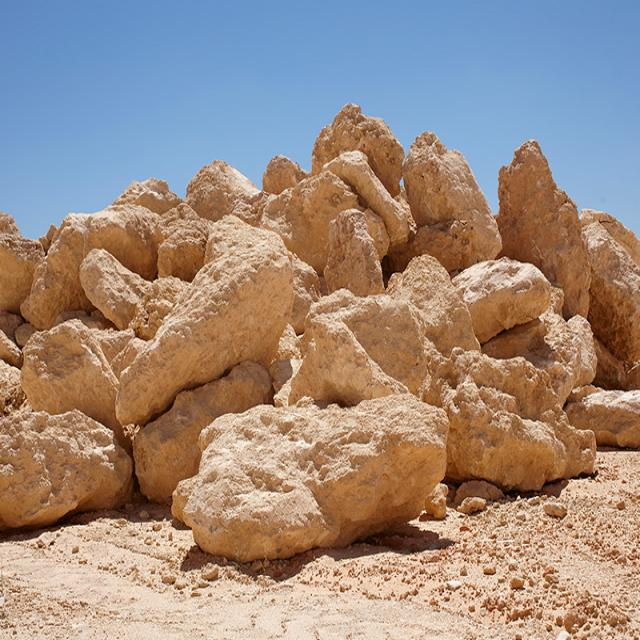Sedimentary: (1, 101, 640, 558)
